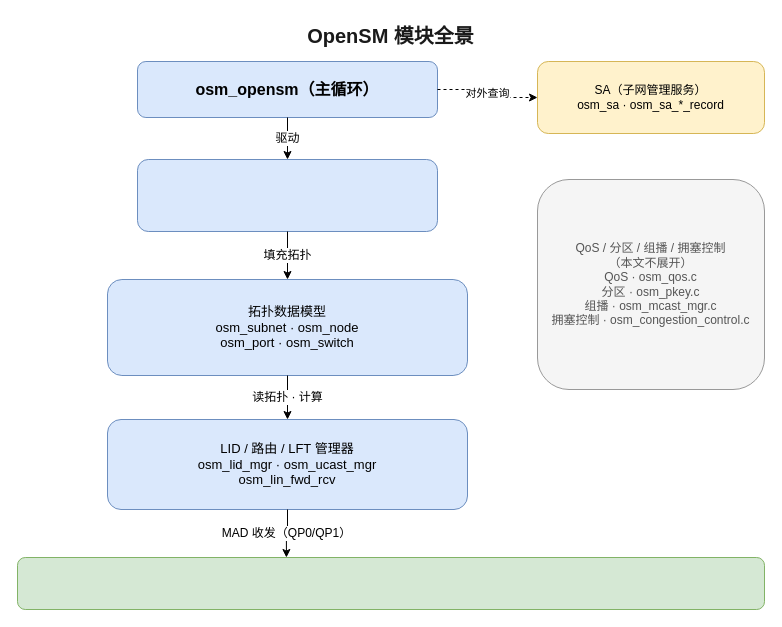
The diagram is 782 pixels wide and 627 high, and some of its shapes have lost their labels. Each missing label, with the centre of its shape:
"libvendor（MAD 收发） osm_vendor_ibumad.c" belongs at (x=390, y=583).
"状态机 osm_sm · osm_sm_state_mgr" belongs at (x=287, y=195).
